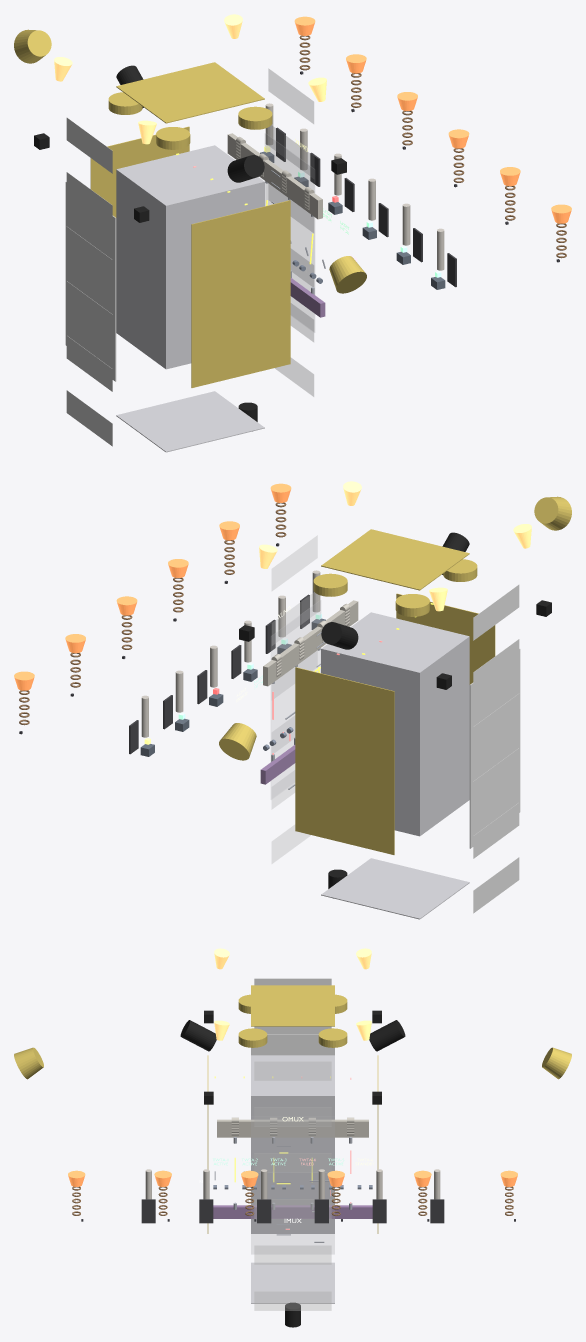
3 views of the same model, one above another, from view 1: azimuth 30°, elevation 25°; view 2: azimuth 150°, elevation 25°; view 3: azimuth 270°, elevation 25° (orthographic). The views are drawn at different scales.
Parts seen in each view (by area): view 1: BUS_CORE, PANEL_WEST_-Y, PANEL_SOUTH_-X, PANEL_ANTIEARTH_+Z, PANEL_EARTH_-Z, PANEL_NORTH_+X, PANEL_EAST_+Y, OMUX_BANK, OSR_S_03, OSR_S_04, OSR_S_05, OSR_S_06 (+13 smaller); view 2: BUS_CORE, PANEL_EAST_+Y, PANEL_SOUTH_-X, PANEL_ANTIEARTH_+Z, PANEL_EARTH_-Z, PANEL_NORTH_+X, PANEL_WEST_-Y, OMUX_BANK, OSR_S_03, OSR_S_04, OSR_S_05, OSR_S_06 (+13 smaller); view 3: BUS_CORE, PANEL_NORTH_+X, PANEL_ANTIEARTH_+Z, PANEL_EARTH_-Z, OMUX_BANK, IMUX_BANK, OSR_N_01, OSR_N_02, OSR_N_06, OSR_N_05, OSR_N_04, PANEL_SOUTH_-X (+9 smaller).
Boxes of the visible parts, bbox=[...] form: BUS_CORE: bbox=[116, 145, 264, 369]; PANEL_WEST_-Y: bbox=[191, 200, 290, 387]; PANEL_SOUTH_-X: bbox=[65, 181, 116, 381]; PANEL_ANTIEARTH_+Z: bbox=[116, 62, 264, 123]; PANEL_EARTH_-Z: bbox=[116, 391, 264, 452]; PANEL_NORTH_+X: bbox=[265, 133, 314, 332]; PANEL_EAST_+Y: bbox=[90, 126, 189, 217]; OMUX_BANK: bbox=[227, 133, 322, 219]; OSR_S_03: bbox=[66, 281, 112, 337]; OSR_S_04: bbox=[66, 226, 112, 282]; OSR_S_05: bbox=[66, 172, 112, 227]; OSR_S_06: bbox=[66, 117, 112, 173]; BUS_CORE: bbox=[321, 612, 469, 836]; PANEL_EAST_+Y: bbox=[295, 667, 394, 854]; PANEL_SOUTH_-X: bbox=[469, 648, 520, 848]; PANEL_ANTIEARTH_+Z: bbox=[321, 529, 469, 590]; PANEL_EARTH_-Z: bbox=[321, 858, 469, 919]; PANEL_NORTH_+X: bbox=[271, 600, 320, 799]; PANEL_WEST_-Y: bbox=[396, 593, 495, 684]; OMUX_BANK: bbox=[263, 600, 358, 686]; OSR_S_03: bbox=[473, 748, 519, 804]; OSR_S_04: bbox=[473, 693, 519, 749]; OSR_S_05: bbox=[473, 639, 519, 694]; OSR_S_06: bbox=[473, 584, 519, 640]; BUS_CORE: bbox=[251, 1055, 334, 1233]; PANEL_NORTH_+X: bbox=[251, 1117, 334, 1254]; PANEL_ANTIEARTH_+Z: bbox=[251, 985, 334, 1026]; PANEL_EARTH_-Z: bbox=[251, 1262, 334, 1303]; OMUX_BANK: bbox=[217, 1119, 368, 1137]; IMUX_BANK: bbox=[213, 1205, 372, 1218]; OSR_N_01: bbox=[254, 1291, 331, 1310]; OSR_N_02: bbox=[254, 1245, 331, 1264]; OSR_N_06: bbox=[254, 1061, 331, 1080]; OSR_N_05: bbox=[254, 1107, 331, 1126]; OSR_N_04: bbox=[254, 1153, 331, 1172]; PANEL_SOUTH_-X: bbox=[251, 1034, 334, 1055].
Bounding box in the file's own units: 4.32 × 4.32 × 6.96.
